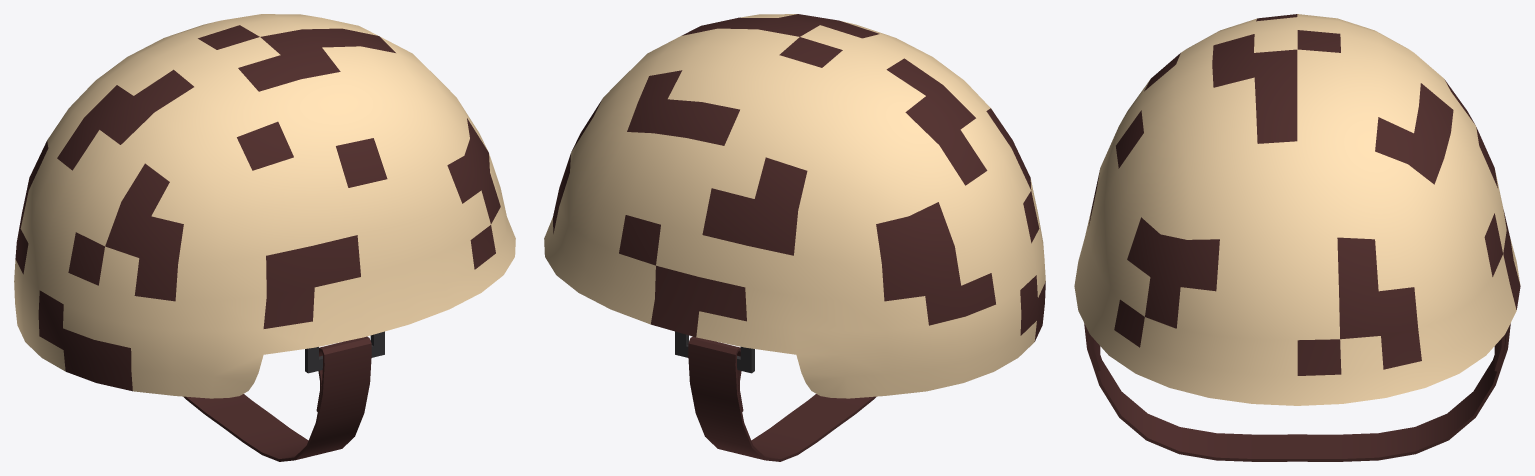
Rendered from Military_Helmet.gltf.
3 renders of one model, left to right at view 1: azimuth 30°, elevation 25°; view 2: azimuth 150°, elevation 25°; view 3: azimuth 270°, elevation 25°, orthographic. The views are drawn at different scales.
Visible parts, largest first — view 1: Cube.6123, Circle.1815, Cube.6124; view 2: Cube.6123, Circle.1815, Cube.6124; view 3: Cube.6123, Circle.1815.
Part boxes in pixels (bbox=[...]): Cube.6123: bbox=[14, 14, 515, 398]; Circle.1815: bbox=[183, 336, 371, 461]; Cube.6124: bbox=[305, 331, 384, 373]; Cube.6123: bbox=[544, 14, 1045, 398]; Circle.1815: bbox=[688, 336, 876, 461]; Cube.6124: bbox=[675, 331, 754, 373]; Cube.6123: bbox=[1074, 14, 1520, 405]; Circle.1815: bbox=[1084, 323, 1510, 461].
Bounding box in the file's own units: 1.77 × 1.43 × 1.42.
Materials: 3 (1 with a texture image).
